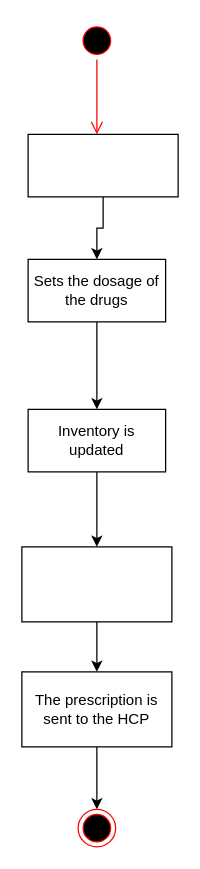
Some shapes in this 200 by 869 pixel diagram are drawn without their labels. Here are the shapes that lost their labels. From the top down, the centre of each, then its label:
At (102,165): "Pharmacist receives the prescription and patient info".
At (96,584): "A PDF of the prescription is created".
